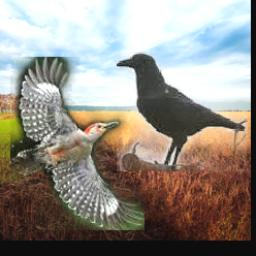Crow: (116, 52, 247, 171)
Woodpecker: (10, 57, 145, 230)
